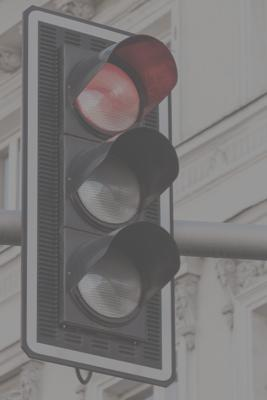International Road Signal Light: (19, 8, 180, 379)
